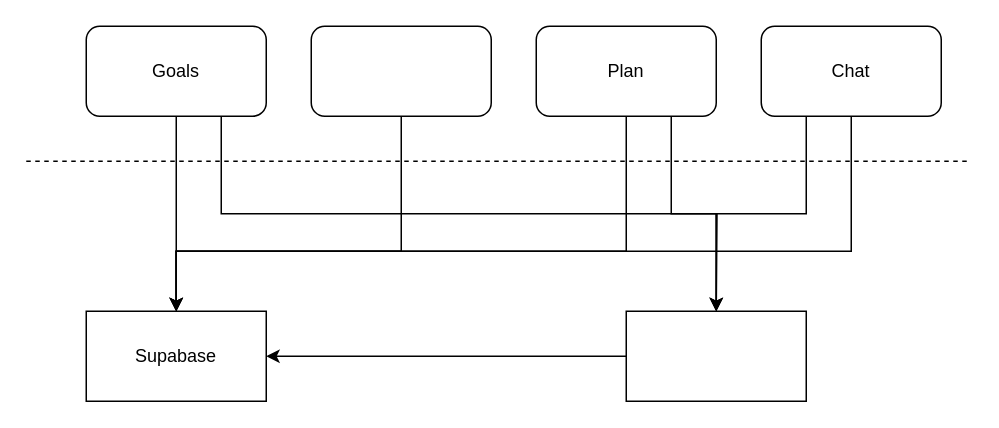
Some shapes in this 999 by 428 pixel diagram are drawn without their labels. The centre of each missing label's shape, as x and y in pixels:
Entries: pixel 400 70
Next Backend: pixel 715 355
